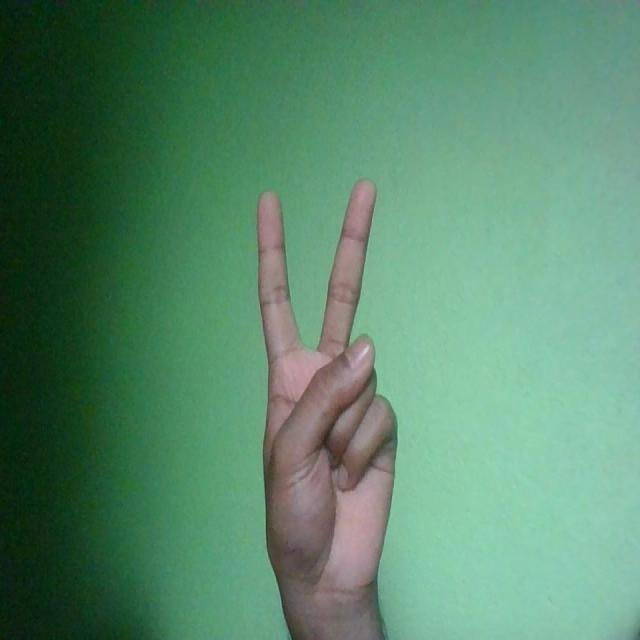Fist: (257, 176, 398, 605)
